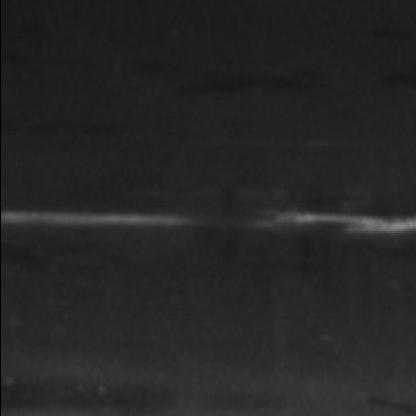scratches: (0, 210, 200, 241), (260, 204, 414, 244)
